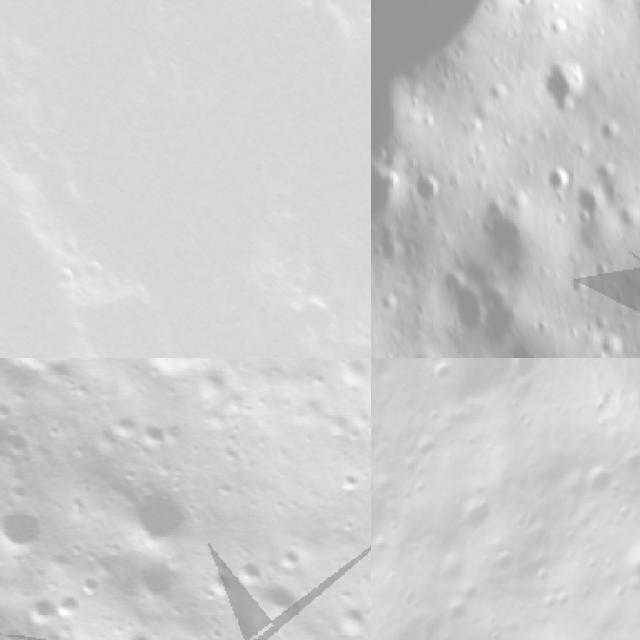crater: (107, 472, 204, 570), (419, 358, 531, 420), (0, 491, 61, 576), (118, 554, 190, 626), (430, 261, 488, 338), (243, 575, 309, 639), (444, 481, 504, 545), (565, 450, 623, 510), (532, 58, 589, 114), (188, 558, 241, 612), (130, 358, 207, 394), (95, 403, 147, 456), (15, 589, 64, 637), (479, 542, 527, 590), (133, 420, 178, 466), (610, 525, 640, 593), (325, 597, 371, 640), (0, 418, 39, 467), (227, 555, 270, 598), (436, 594, 476, 636), (371, 164, 398, 225), (611, 431, 640, 484), (452, 576, 491, 614), (501, 358, 547, 390), (409, 171, 443, 210), (283, 358, 364, 374), (569, 183, 604, 220), (105, 621, 162, 640), (540, 164, 572, 193), (565, 268, 587, 299), (597, 330, 621, 358), (594, 121, 620, 146), (631, 6, 640, 40)
